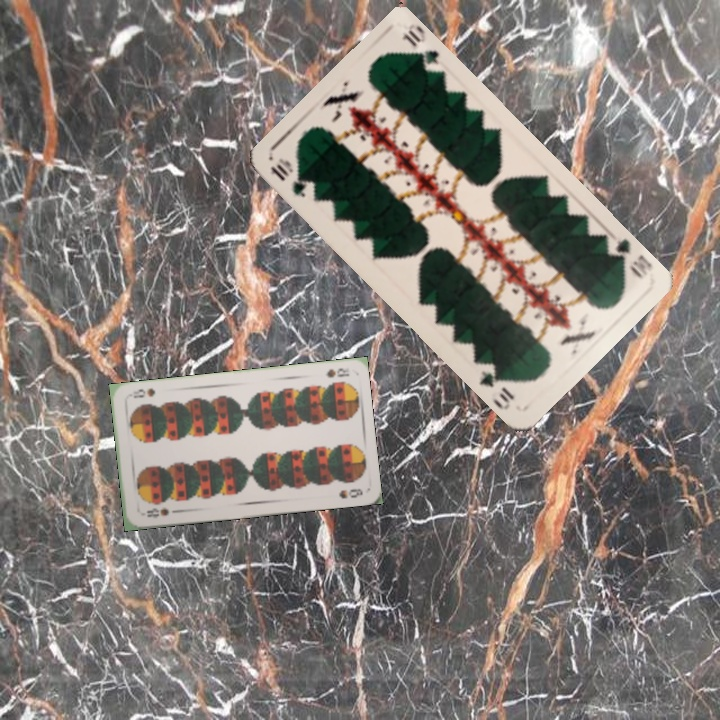G10: (606, 234, 655, 282), (266, 154, 312, 201)
S8: (321, 363, 352, 380), (143, 504, 171, 521)
